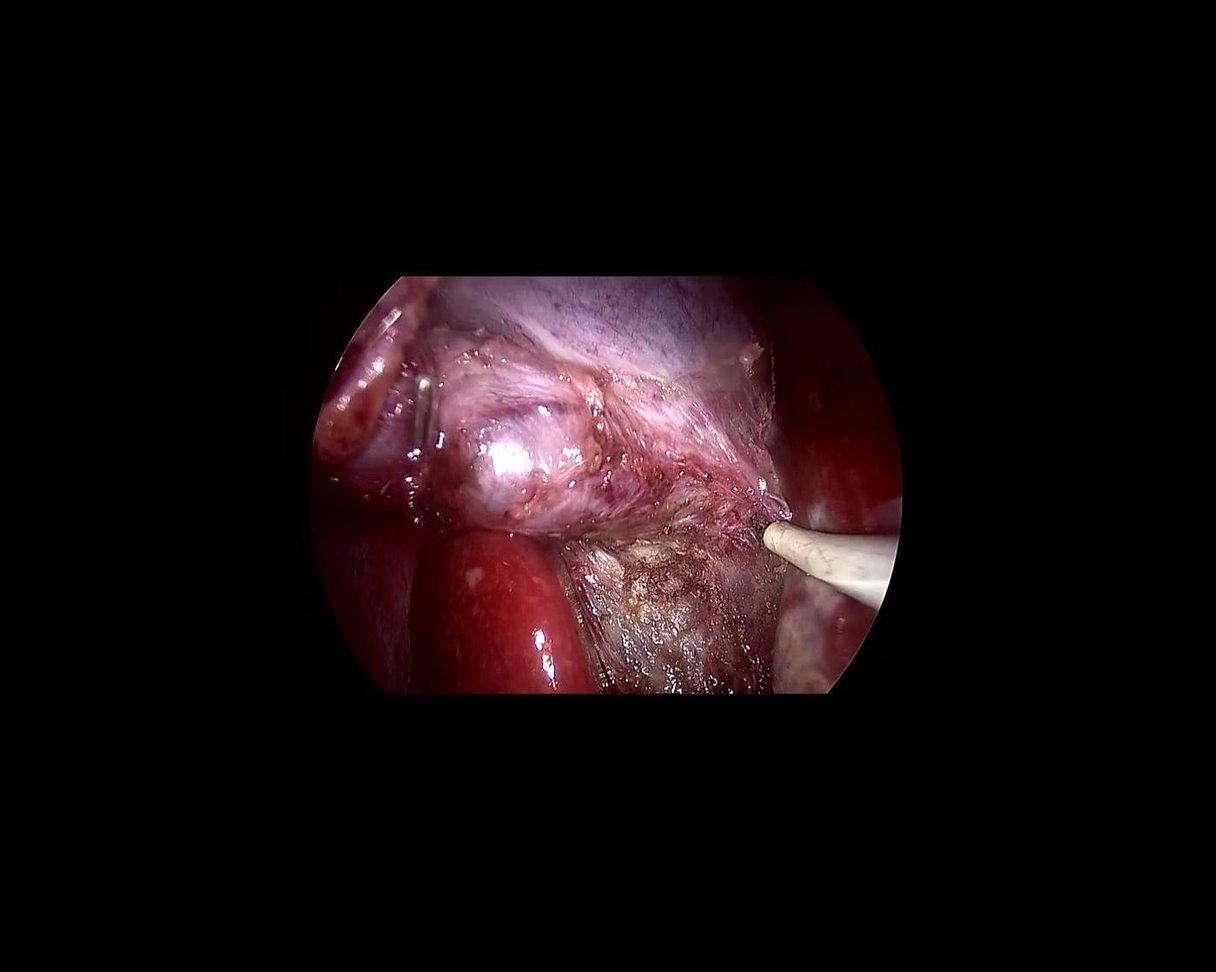Cautery: (733, 504, 898, 611)
Gallbladder: (311, 280, 794, 538)
Liver: (312, 492, 589, 691), (772, 275, 898, 538)
